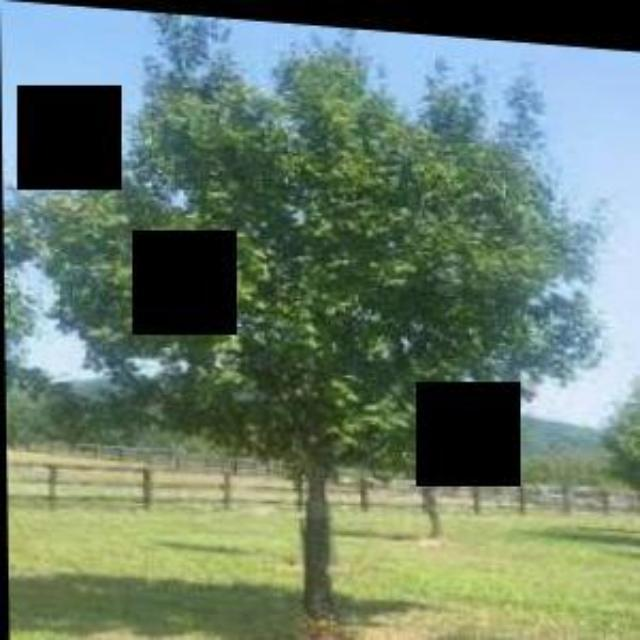tree: (31, 8, 630, 638)
